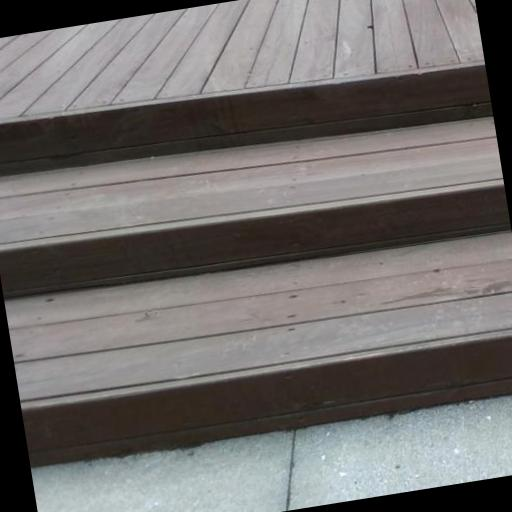stairs: (0, 118, 511, 464), (0, 118, 510, 298)
